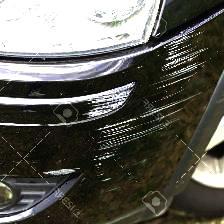bumper_scratch: (83, 24, 214, 178)
